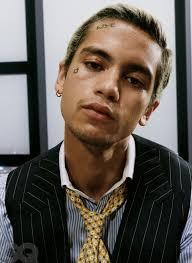Persons: (49, 2, 181, 153)
